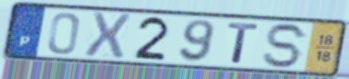0: (46, 11, 82, 56)
2: (133, 15, 171, 62)
9: (176, 18, 217, 64)
S: (262, 21, 312, 69)
T: (225, 21, 261, 65)
X: (82, 10, 133, 60)
